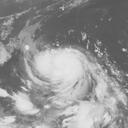cyclone: (24, 46, 105, 107)
